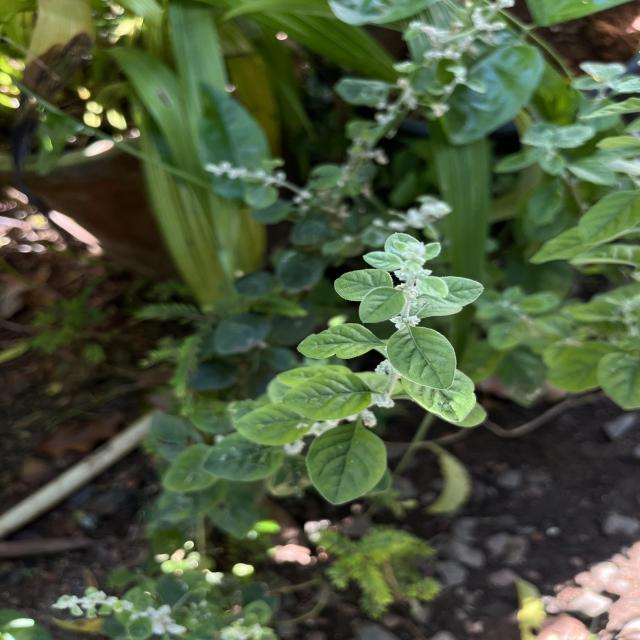Aerva lanata: (386, 326, 458, 392), (294, 322, 381, 361), (332, 266, 394, 302)
